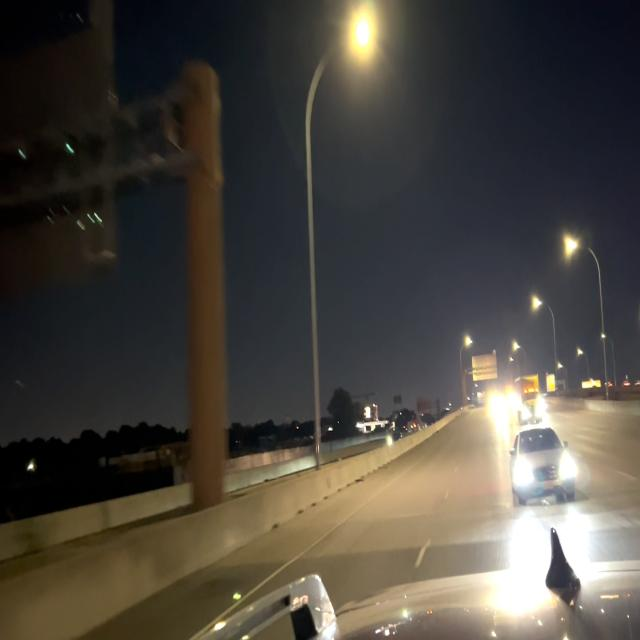back-of-sign: (470, 349, 499, 383)
